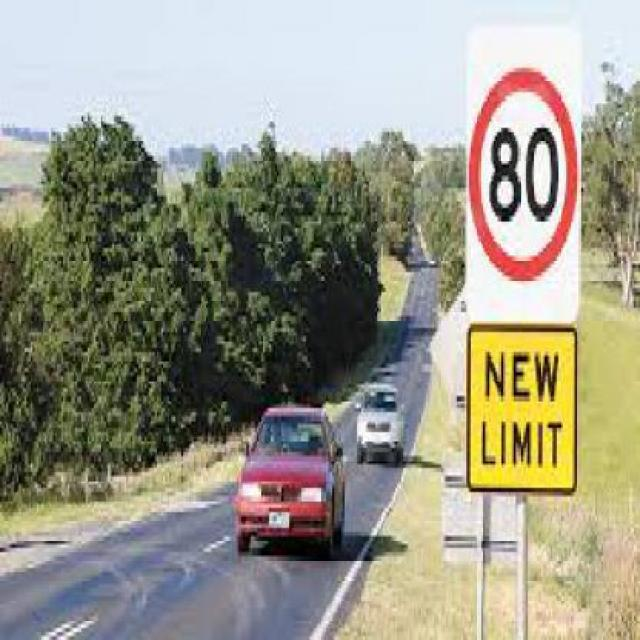traffic_sign: (471, 68, 578, 288)
